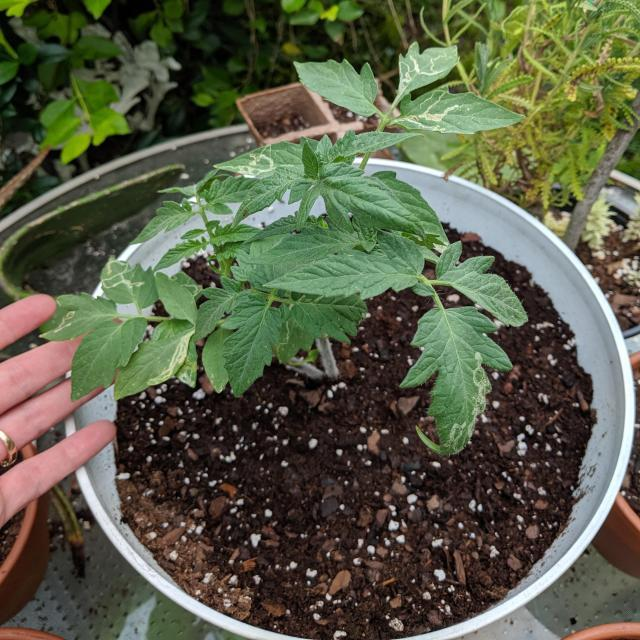Tomato healthy leaf: (288, 139, 426, 240), (263, 236, 426, 297), (432, 236, 529, 330), (70, 316, 148, 402), (218, 296, 277, 398), (293, 59, 377, 117), (248, 231, 358, 268), (195, 275, 249, 341), (315, 129, 420, 162), (128, 197, 196, 246), (156, 235, 209, 270)
Tomato target spot leaf: (400, 311, 512, 458), (388, 84, 526, 135), (113, 328, 193, 401), (391, 40, 458, 109), (35, 295, 122, 341), (212, 142, 305, 178), (101, 259, 159, 308)
